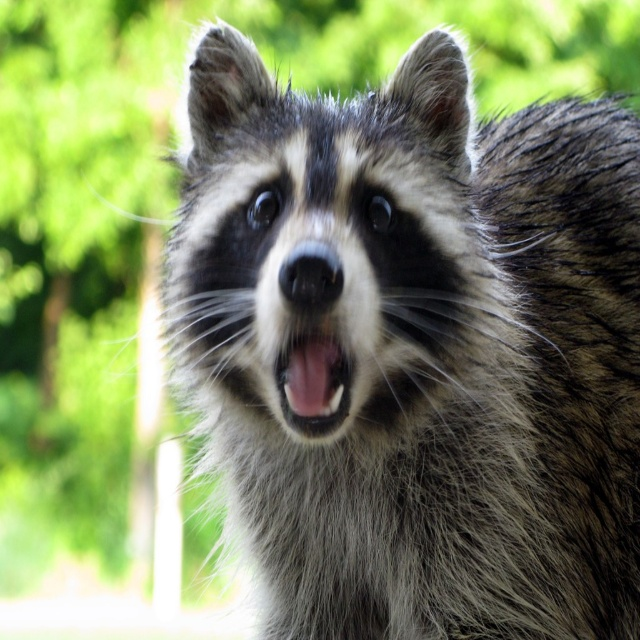Raccoon: (118, 18, 640, 639)
